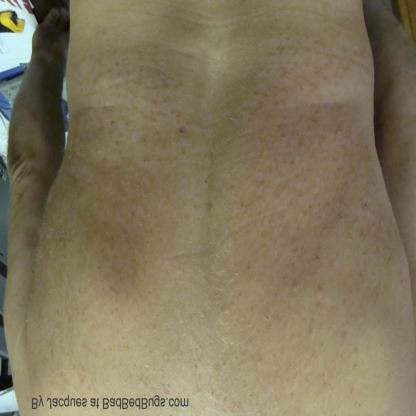Bed Bug: (144, 95, 172, 146), (130, 156, 158, 192), (112, 59, 144, 90), (104, 114, 130, 146), (252, 172, 271, 199), (250, 347, 267, 375), (174, 111, 186, 142), (337, 192, 347, 226), (288, 271, 302, 293), (87, 76, 104, 92), (312, 250, 326, 268), (304, 323, 318, 341), (157, 384, 176, 396), (340, 325, 348, 349), (213, 360, 229, 372), (316, 279, 324, 302), (361, 198, 370, 216), (348, 362, 360, 374)
